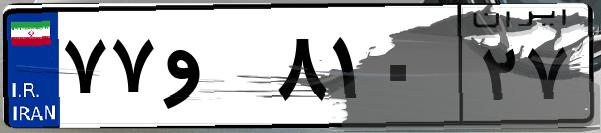0: (385, 28, 445, 110)
1: (330, 28, 385, 110)
2: (475, 38, 525, 113)
7: (57, 26, 110, 100), (525, 38, 570, 115), (110, 28, 158, 98)
8: (270, 28, 330, 110)
و: (158, 20, 270, 120)
